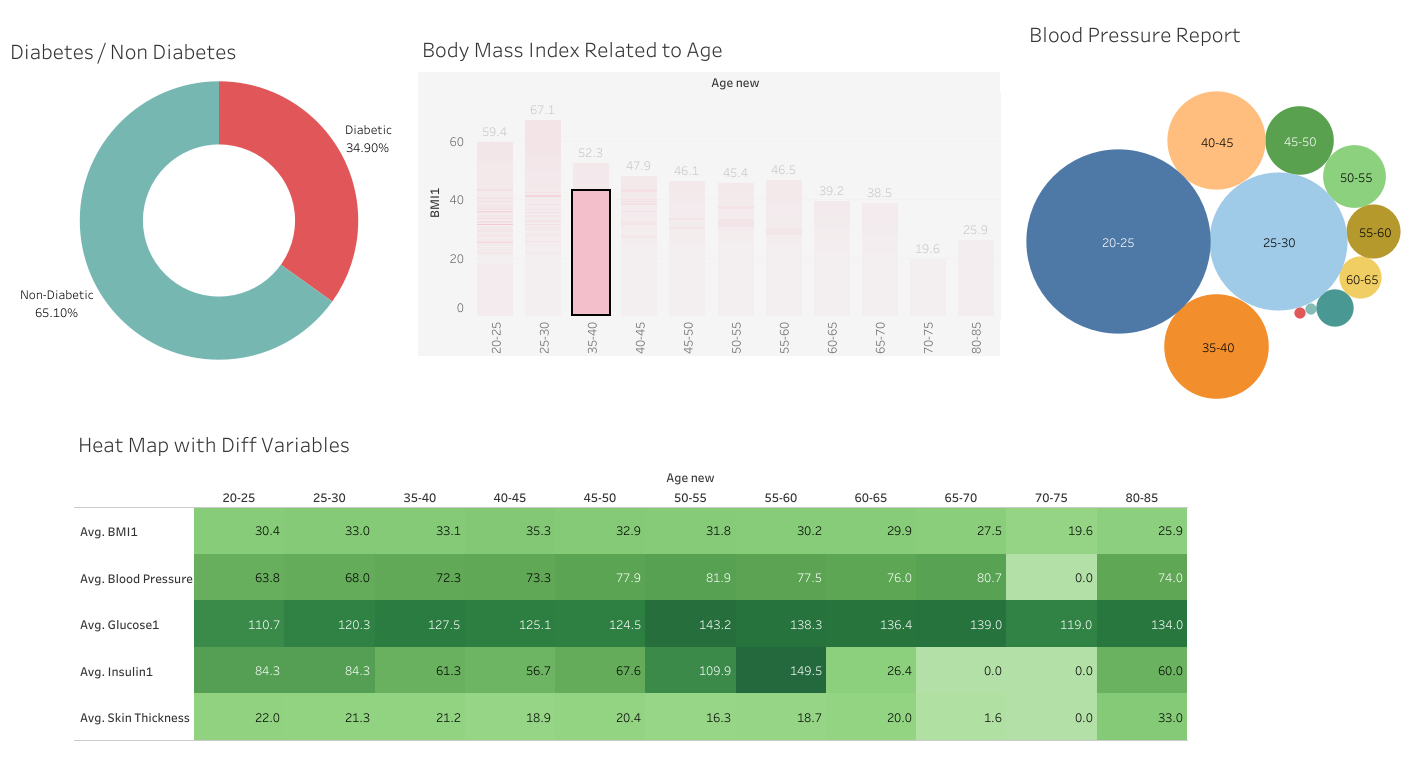

The dashboard page shown, as its layout file describes it:
{"tool":"tableau","page":{"name":"Dashboard 1","canvas":[1000,1000],"units":"permille","ordinal":0},"visuals":[{"type":"worksheet","title":"Blood Pressure Report","mark":"Circle","box":[721.8,18.4,276.1,551.3]},{"type":"worksheet","title":"Body Mass to age","mark":"Bar","rows":["BMI"],"cols":["Calculation_79938895863570433"],"box":[294.7,38.2,409.9,430.3]},{"type":"worksheet","title":"Donut Pie chart","mark":"Pie","rows":["Number of Records","Number of Records"],"box":[4.5,40.8,300,442.1]},{"type":"worksheet","title":"Heat Map with Diff Variables","mark":"Square","cols":["Calculation_79938895863570433"],"box":[52.1,557.9,784.5,418.4]}]}

Visuals, with their boxes on the dashboard's canvas, which has no fixed pixel size, in thousandths of its width and height (x1, y1, x2, y2). These are canvas units, not pixel positions in the 1419x759 screenshot, which may show the page scaled, cropped or inside an application window:
"Blood Pressure Report" worksheet (Circle marks): 722,18,998,570
"Body Mass to age" worksheet (Bar marks): 295,38,705,468
"Donut Pie chart" worksheet (Pie marks): 4,41,304,483
"Heat Map with Diff Variables" worksheet (Square marks): 52,558,837,976
